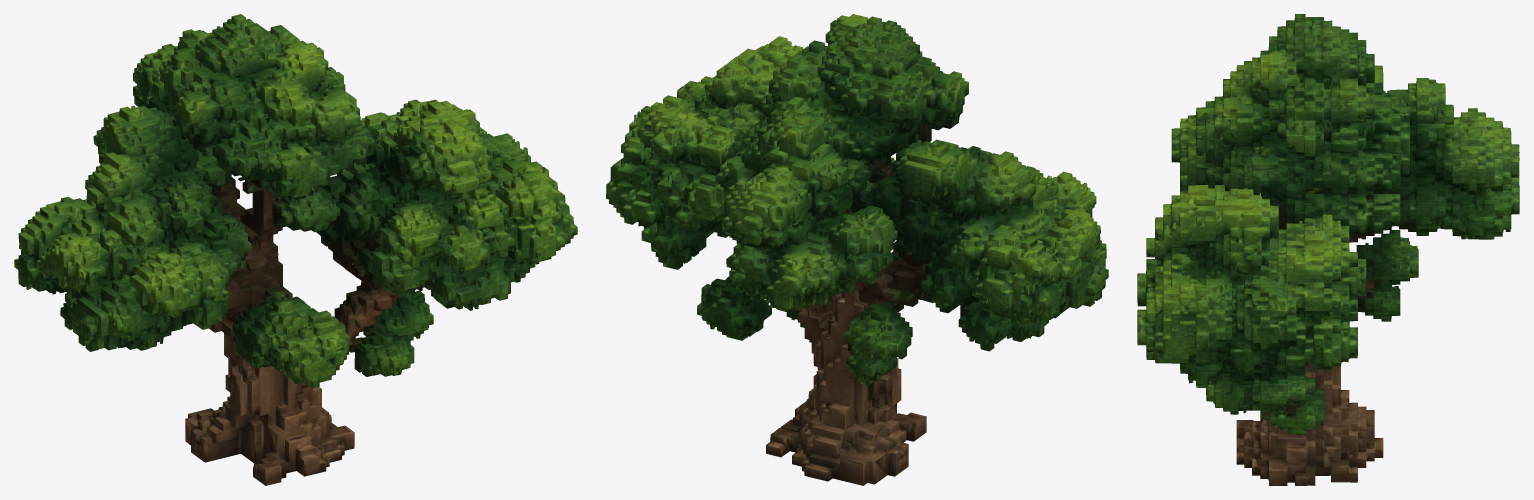
File: tree-opt-150k.glb
3 views of the same model, side by side, from view 1: azimuth 30°, elevation 25°; view 2: azimuth 150°, elevation 25°; view 3: azimuth 270°, elevation 25° (orthographic). The views are drawn at different scales.
Parts seen in each view (by area): view 1: node_0; view 2: node_0; view 3: node_0.
Part boxes in pixels (x1=…): node_0: x1=14, y1=14, x2=577, y2=485; node_0: x1=606, y1=14, x2=1108, y2=485; node_0: x1=1137, y1=14, x2=1519, y2=485.
Bounding box in the file's own units: 1.02 × 0.908 × 0.7457.
1 material, 1 textured.
